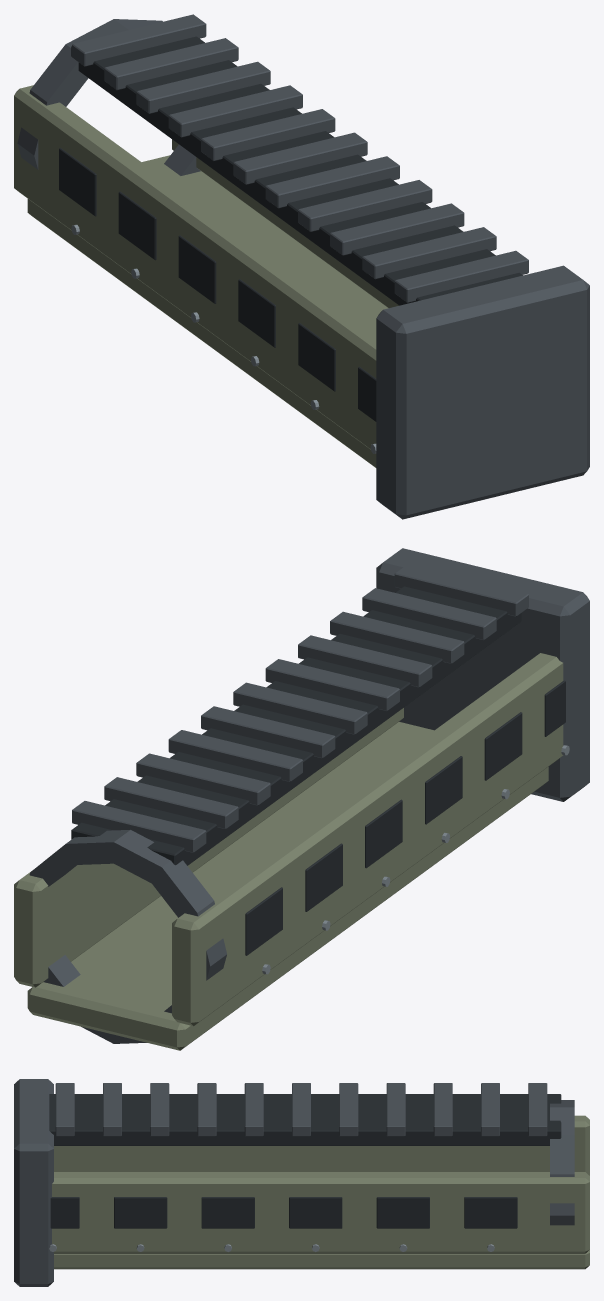
The model's file is weapon_manta300_handguard.glb.
The picture shows the model from 3 angles, top to bottom: view 1: azimuth 30°, elevation 25°; view 2: azimuth 150°, elevation 25°; view 3: azimuth 270°, elevation 25°; orthographic projection. The views are drawn at different scales.
Visible parts, largest first — view 1: Geometry_weapon_manta300_handguard; view 2: Geometry_weapon_manta300_handguard; view 3: Geometry_weapon_manta300_handguard.
Boxes of the visible parts, x1,y1,x2,y2 form: Geometry_weapon_manta300_handguard: [14, 14, 589, 519]; Geometry_weapon_manta300_handguard: [14, 548, 589, 1050]; Geometry_weapon_manta300_handguard: [14, 1079, 589, 1286].
Size of the model in its own units: 0.0862 by 0.0873 by 0.3025.
